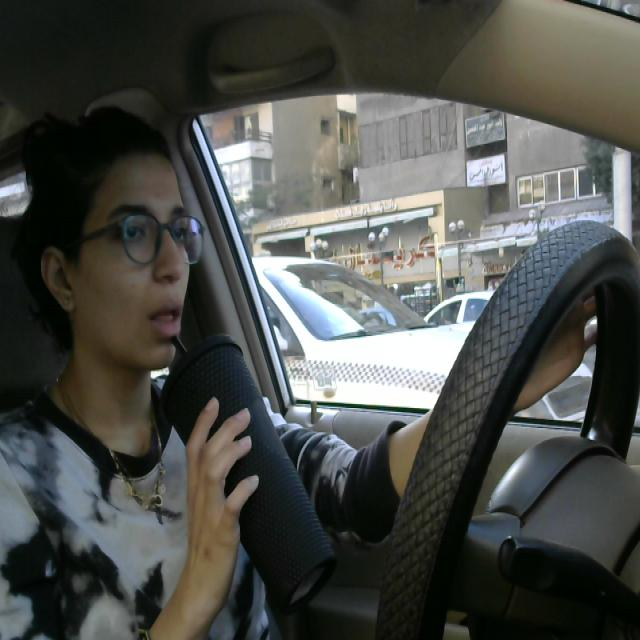drinking: (155, 324, 351, 606)
